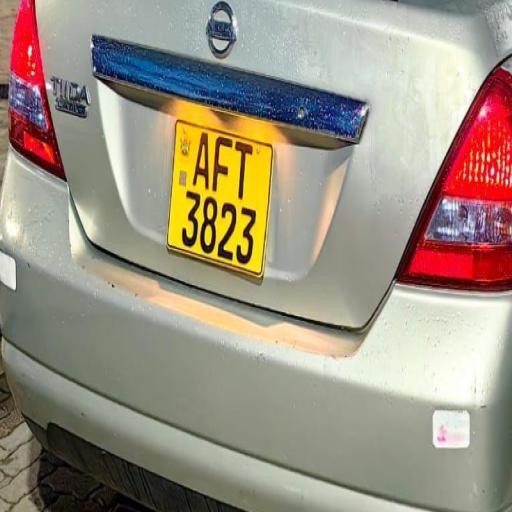number-plates: (174, 118, 256, 266)
